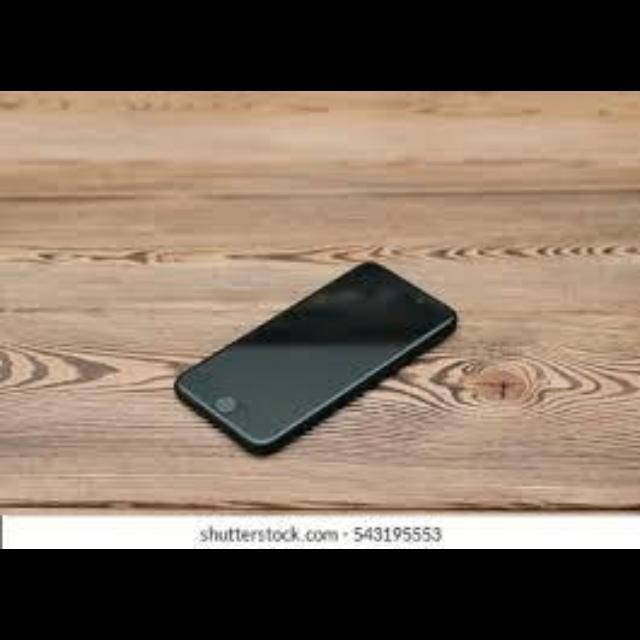phone: (168, 257, 462, 459)
